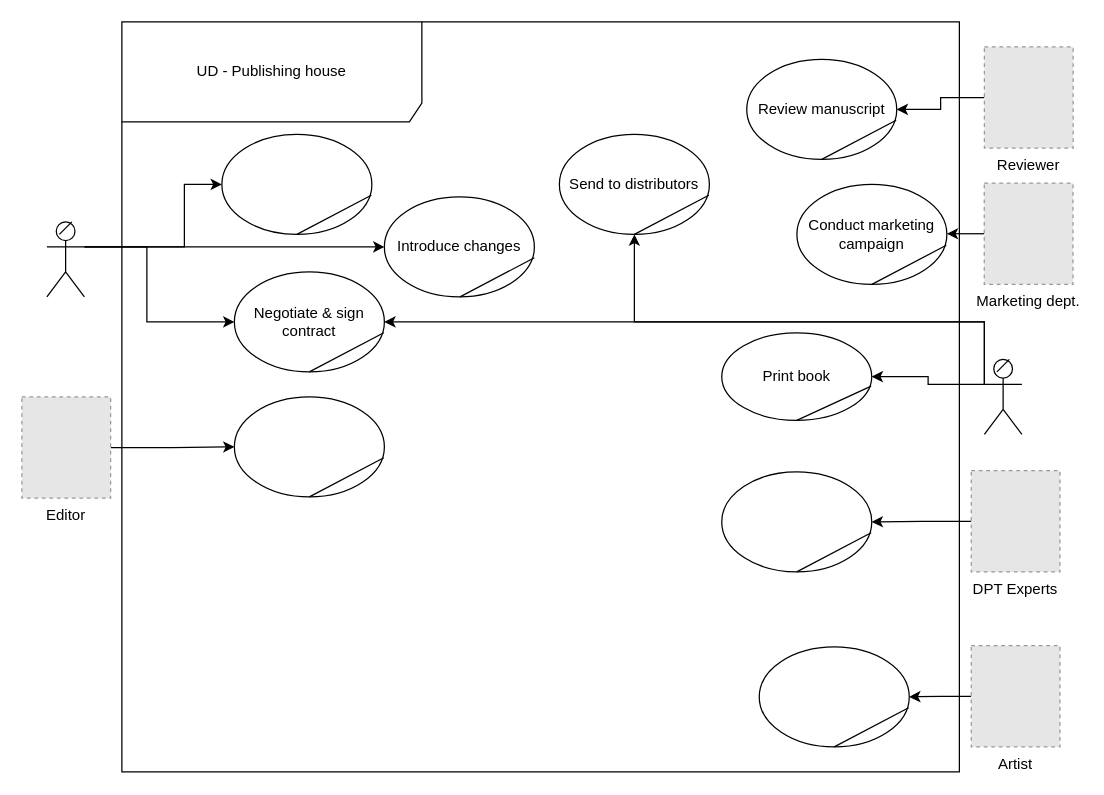
Image size: 1104x795. Some labels were removed from this diagram. Grey dashed boxes stand in for pictures. The centre of each missing label's shape, as x and y in pixels:
"Author" belongs at point (65, 259).
"Design cover" belongs at point (833, 696).
"Propose changes" belongs at point (308, 446).
"Publishing house" belongs at point (1002, 396).
"Submit manuscript" belongs at point (296, 183).
"Typeset book" belongs at point (796, 521).
